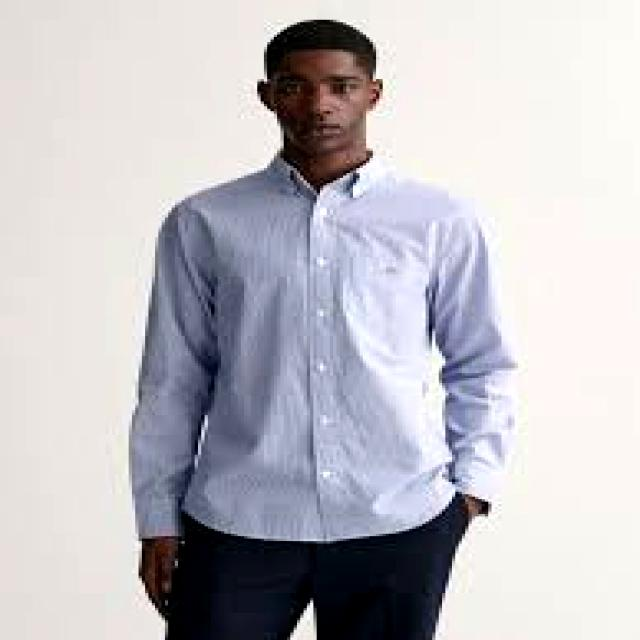face: (258, 50, 382, 155)
lower-wear: (165, 492, 471, 639)
top-wear: (129, 151, 517, 541)
